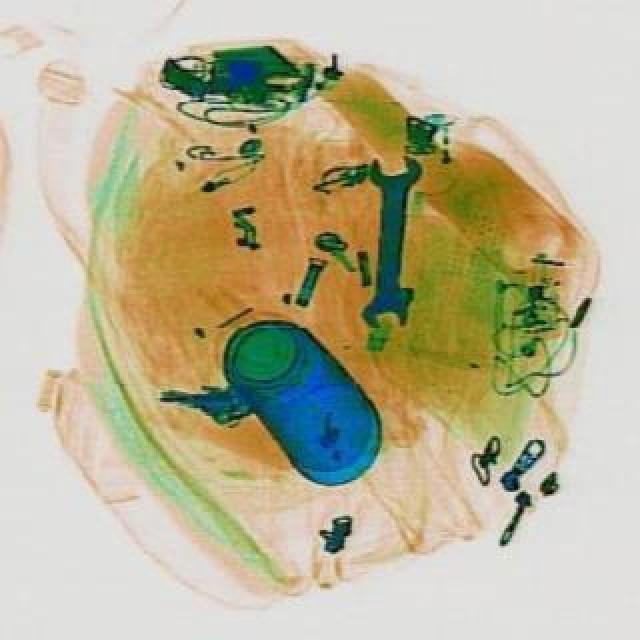scissors: (358, 158, 420, 334)
